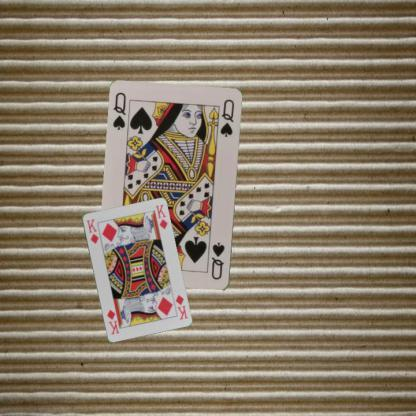Kd: (84, 216, 100, 245), (173, 292, 189, 321)
Qs: (209, 240, 227, 282), (110, 90, 127, 132)
